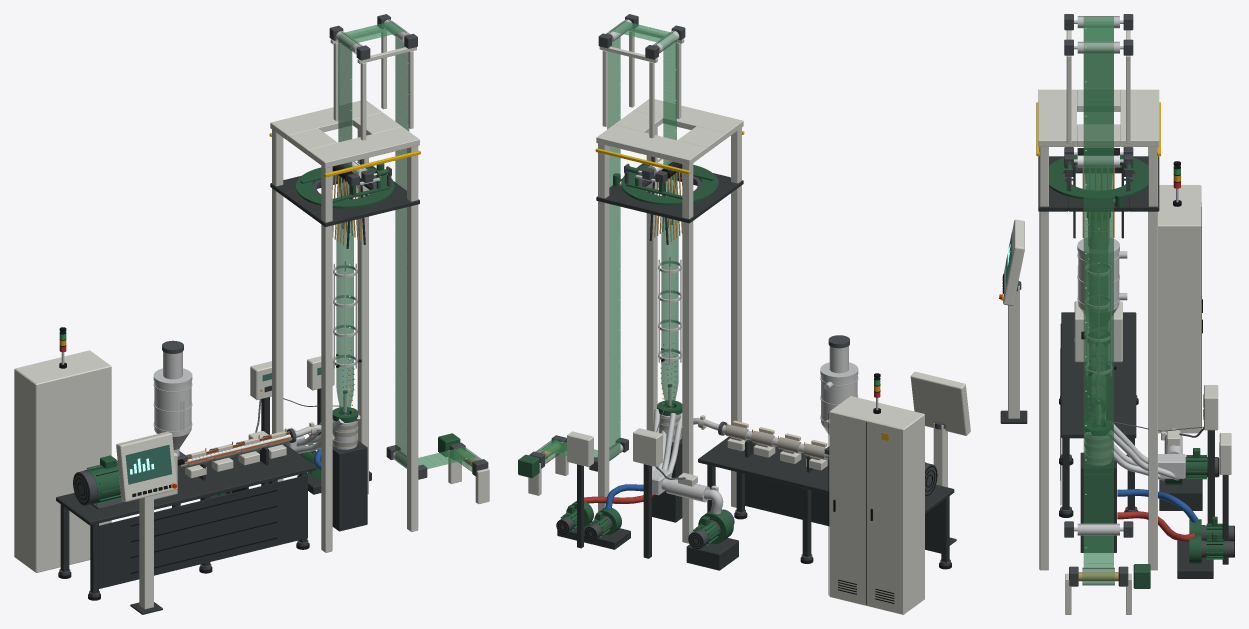
Rendered from blownfilm-motion.glb.
3 renders of one model, left to right at view 1: azimuth 30°, elevation 25°; view 2: azimuth 150°, elevation 25°; view 3: azimuth 270°, elevation 25°, orthographic. The views are drawn at different scales.
Parts seen in each view (by area): view 1: Tower, Extruder, Control cabinet, AnnularDie, Operator panel head, Extruder hopper, TakeOffFrame, HotAirRing, OscillatingFrame, Operator panel stand, IBCUnit, WinderStand (+1 smaller); view 2: Tower, Control cabinet, Extruder, HotAirRing, IBCUnit, Operator panel head, Extruder hopper, TakeOffFrame, AnnularDie, OscillatingFrame, WinderStand, Operator panel stand (+1 smaller); view 3: Tower, Control cabinet, Extruder, HotAirRing, IBCUnit, AnnularDie, OscillatingFrame, Operator panel stand, Extruder hopper, Operator panel head, TakeOffFrame, WinderStand (+54 smaller).
Boxes of the visible parts, x1,y1,x2,y2 form: Tower: (269, 100, 420, 552); Extruder: (56, 428, 316, 600); Control cabinet: (14, 350, 111, 572); AnnularDie: (295, 407, 367, 531); Operator panel head: (116, 431, 177, 501); Extruder hopper: (153, 340, 192, 465); TakeOffFrame: (330, 28, 416, 140); HotAirRing: (200, 361, 360, 500); OscillatingFrame: (295, 159, 394, 208); Operator panel stand: (130, 495, 162, 614); IBCUnit: (297, 356, 371, 494); WinderStand: (438, 433, 489, 504); Tower: (595, 99, 744, 543); Control cabinet: (828, 396, 924, 614); Extruder: (698, 420, 954, 569); HotAirRing: (633, 406, 738, 570); IBCUnit: (556, 431, 654, 549); Operator panel head: (910, 371, 970, 435); Extruder hopper: (820, 335, 858, 454); TakeOffFrame: (599, 27, 684, 138); AnnularDie: (652, 400, 719, 522); OscillatingFrame: (621, 156, 718, 205); WinderStand: (518, 451, 568, 495); Operator panel stand: (933, 421, 956, 545); Tower: (1036, 89, 1160, 570); Control cabinet: (1158, 185, 1202, 433); Extruder: (1059, 301, 1138, 517); HotAirRing: (1086, 385, 1219, 523); IBCUnit: (1117, 433, 1234, 578); AnnularDie: (1080, 419, 1116, 552); OscillatingFrame: (1049, 155, 1148, 199); Operator panel stand: (1000, 281, 1027, 423); Extruder hopper: (1077, 212, 1127, 342); Operator panel head: (999, 219, 1024, 305); TakeOffFrame: (1066, 30, 1130, 143); WinderStand: (1065, 564, 1150, 614).
Bounding box in the file's own units: 4.37 × 4.86 × 1.95.
